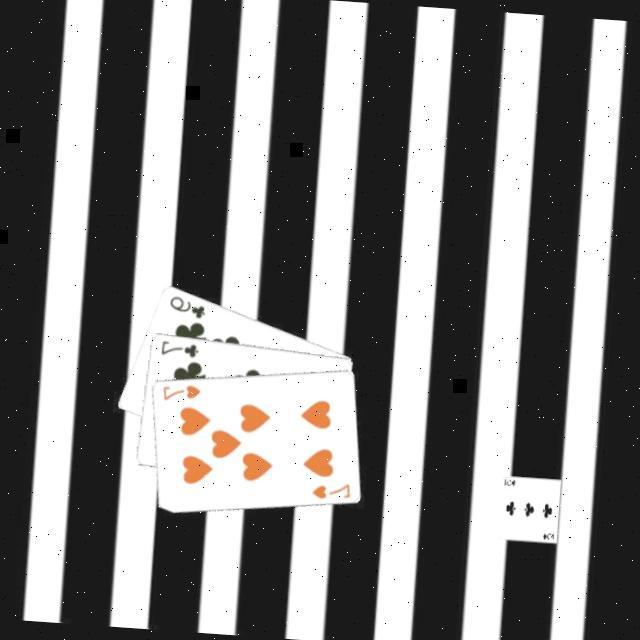7C: (157, 339, 202, 362)
7H: (309, 479, 354, 505), (160, 381, 204, 407)
9C: (165, 293, 210, 323)
